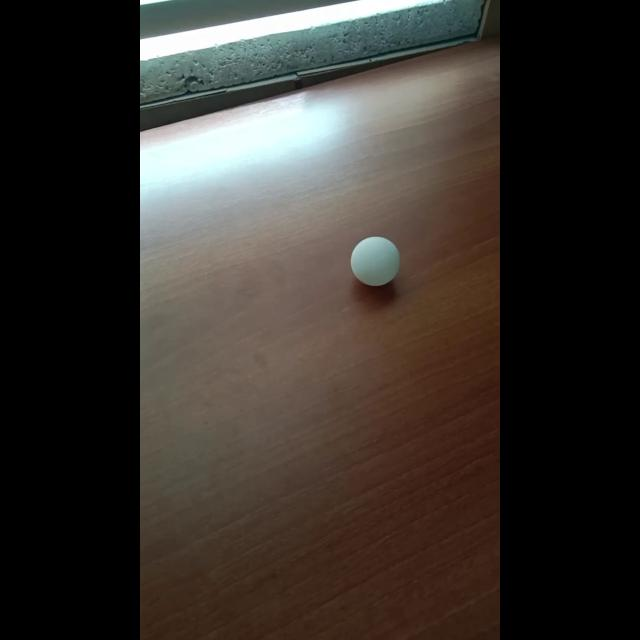white ball: (350, 236, 400, 286)
